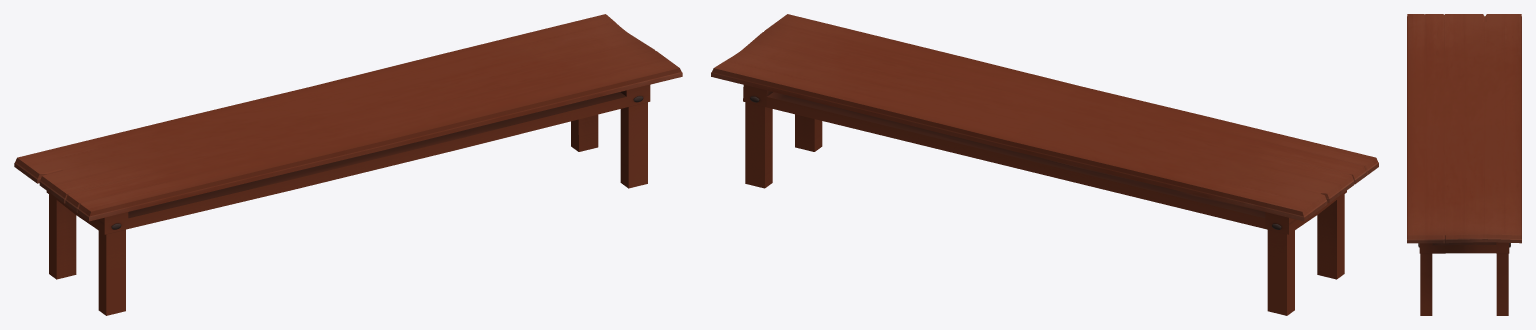
File: Bench.fbx
3 views of the same model, side by side, from view 1: azimuth 30°, elevation 25°; view 2: azimuth 150°, elevation 25°; view 3: azimuth 270°, elevation 25° (orthographic). The views are drawn at different scales.
Parts seen in each view (by area): view 1: Bolt.015; view 2: Bolt.015; view 3: Bolt.015.
Part boxes in pixels (x1,y1,x2,y2): Bolt.015: (14,14,682,315); Bolt.015: (711,14,1378,315); Bolt.015: (1407,14,1521,315).
Bounding box in the file's own units: 645 × 120 × 140.
